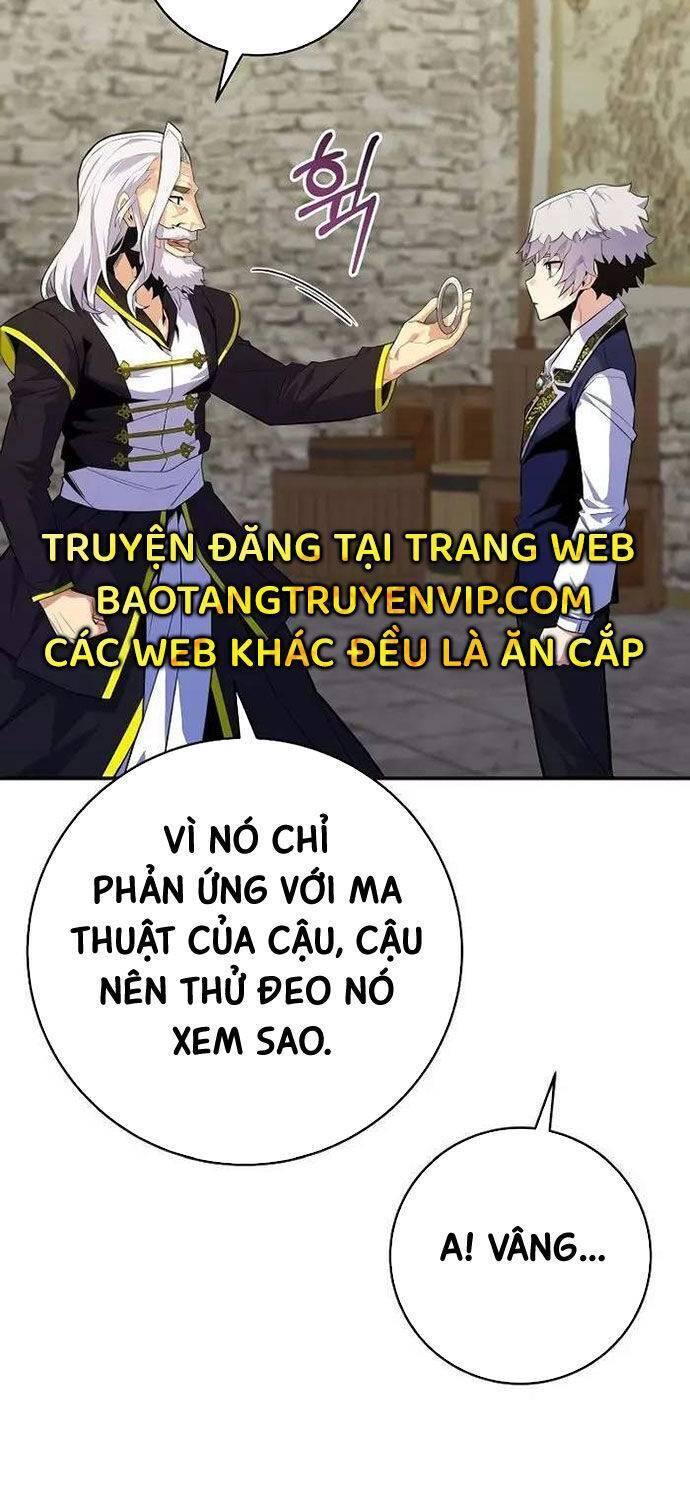quangcao: (32, 524, 648, 678)
